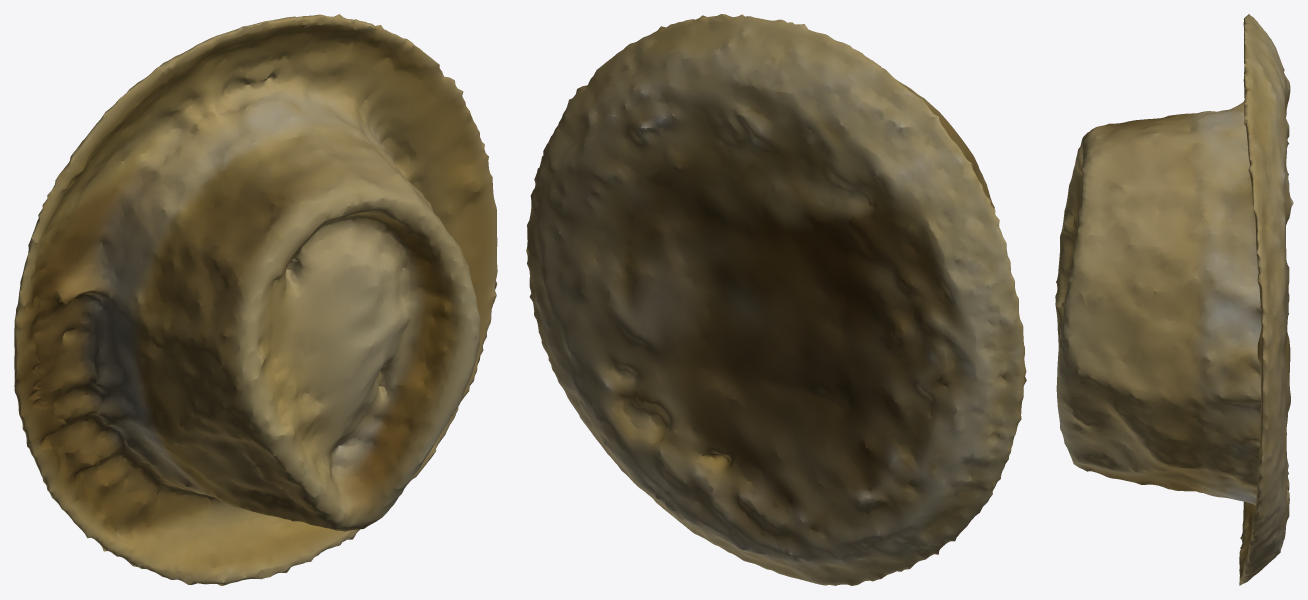
File: hat.glb
The picture shows the model from 3 angles, left to right: view 1: azimuth 30°, elevation 25°; view 2: azimuth 150°, elevation 25°; view 3: azimuth 270°, elevation 25°; orthographic projection. The views are drawn at different scales.
Bounding box in the file's own units: 0.9187 × 0.9964 × 0.4117.
